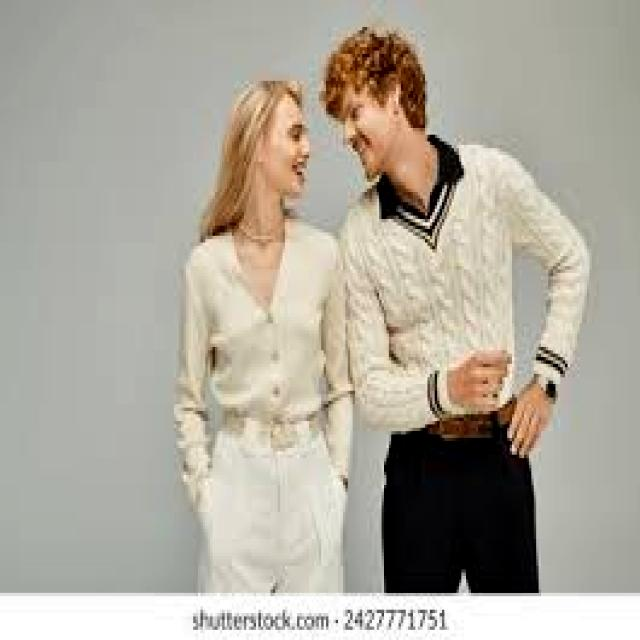face: (259, 95, 309, 198), (341, 88, 398, 178)
lower-wear: (382, 428, 538, 592), (199, 422, 345, 592)
top-wear: (351, 151, 591, 431), (181, 222, 353, 506)
